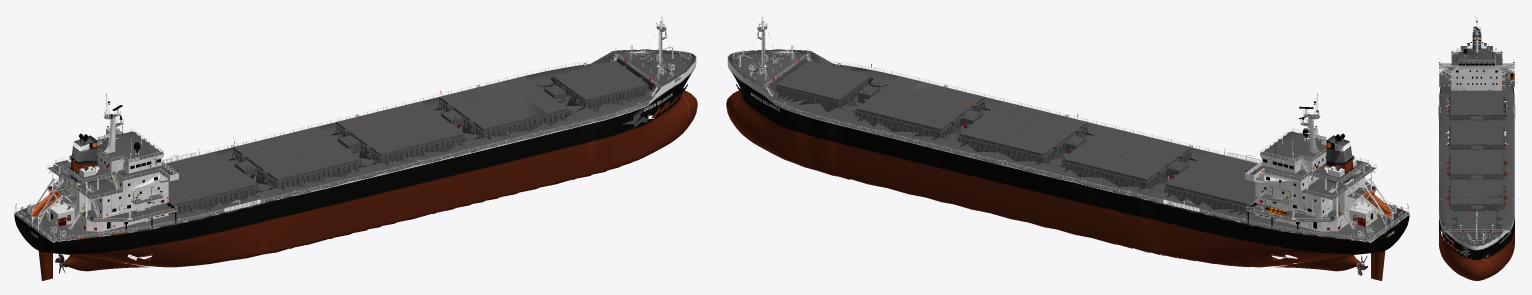
File: bulk.glb
3 views of the same model, side by side, from view 1: azimuth 30°, elevation 25°; view 2: azimuth 150°, elevation 25°; view 3: azimuth 270°, elevation 25° (orthographic). The views are drawn at different scales.
Visible parts, largest first — view 1: BRIDGE RAILS__0; view 2: BRIDGE RAILS__0; view 3: BRIDGE RAILS__0.
Part boxes in pixels (left/top/right/bottom): BRIDGE RAILS__0: left=14, top=17, right=697, bottom=280; BRIDGE RAILS__0: left=726, top=16, right=1409, bottom=280; BRIDGE RAILS__0: left=1438, top=16, right=1517, bottom=280.
Size of the model in its own units: 1 by 0.2499 by 0.1751.
1 material, 1 textured.
